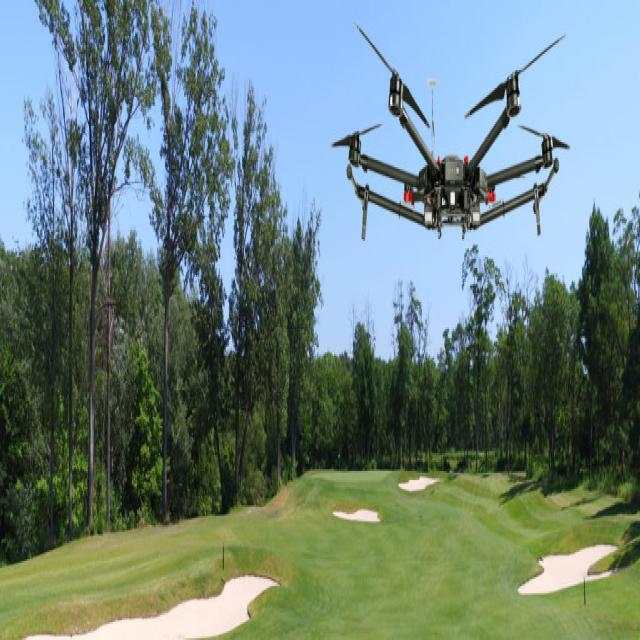drone: (330, 25, 570, 244)
